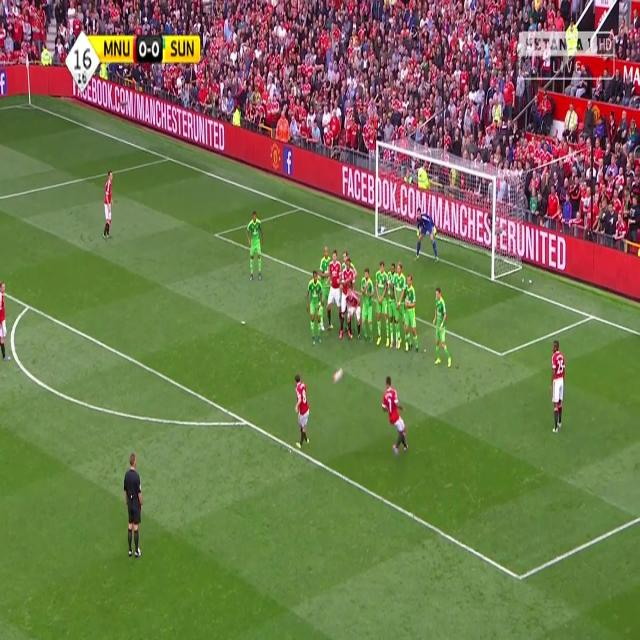Ball: (332, 364, 344, 388)
Goalkeeper: (412, 207, 440, 265)
Player: (381, 375, 409, 456), (549, 340, 569, 432), (432, 289, 454, 368), (246, 208, 266, 286), (292, 372, 312, 449), (305, 270, 325, 343), (374, 257, 390, 347), (403, 274, 421, 351), (394, 261, 408, 352), (328, 250, 342, 330), (360, 268, 374, 344), (386, 263, 398, 349), (342, 255, 354, 341), (102, 169, 115, 242), (344, 286, 360, 342), (0, 278, 10, 365), (318, 242, 330, 282)
Referee: (122, 449, 144, 559)
